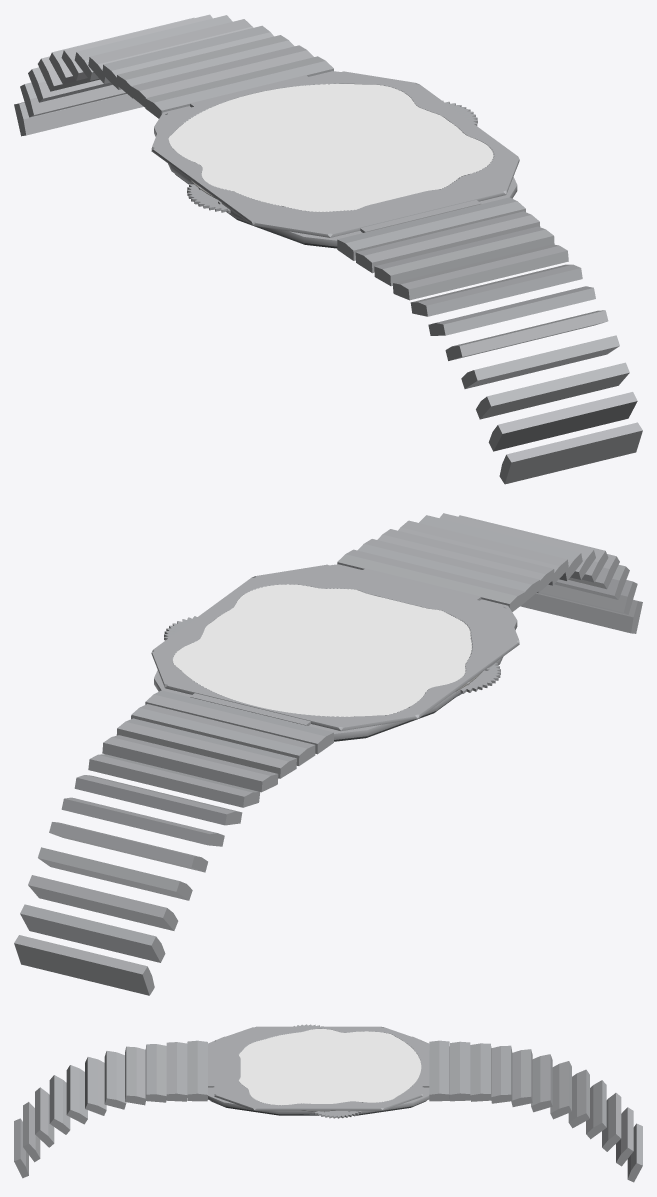
File: bulgari_ultra.glb
The picture shows the model from 3 angles, top to bottom: view 1: azimuth 30°, elevation 25°; view 2: azimuth 150°, elevation 25°; view 3: azimuth 270°, elevation 25°; orthographic projection. The views are drawn at different scales.
Visible parts, largest first — view 1: Sapphire_Crystal_UltraThin, Bezel_Octagonal_Titanium, Bracelet_Lower_Link_11, Bracelet_Lower_Link_3, Bracelet_Lower_Link_10, Bracelet_Lower_Link_4, Bracelet_Lower_Link_2, Bracelet_Lower_Link_1, Bracelet_Lower_Link_9, Bracelet_Upper_Link_1, Bracelet_Lower_Link_5, Bracelet_Upper_Link_2 (+14 smaller); view 2: Sapphire_Crystal_UltraThin, Bezel_Octagonal_Titanium, Bracelet_Upper_Link_12, Bracelet_Upper_Link_4, Bracelet_Upper_Link_11, Bracelet_Upper_Link_3, Bracelet_Upper_Link_5, Bracelet_Upper_Link_2, Bracelet_Upper_Link_1, Bracelet_Upper_Link_10, Bracelet_Lower_Link_1, Bracelet_Upper_Link_6 (+14 smaller); view 3: Sapphire_Crystal_UltraThin, Bezel_Octagonal_Titanium, Bracelet_Lower_Link_2, Bracelet_Lower_Link_1, Bracelet_Upper_Link_1, Bracelet_Upper_Link_3, Bracelet_Lower_Link_3, Bracelet_Upper_Link_2, Bracelet_Upper_Link_4, Bracelet_Lower_Link_4, Bracelet_Lower_Link_5, Bracelet_Upper_Link_5 (+18 smaller).
Boxes of the visible parts, x1=… form: Sapphire_Crystal_UltraThin: x1=168, y1=84, x2=493, y2=212; Bezel_Octagonal_Titanium: x1=151, y1=71, x2=519, y2=237; Bracelet_Lower_Link_11: x1=499, y1=422, x2=642, y2=484; Bracelet_Lower_Link_3: x1=374, y1=226, x2=554, y2=286; Bracelet_Lower_Link_10: x1=488, y1=392, x2=637, y2=451; Bracelet_Lower_Link_4: x1=393, y1=244, x2=568, y2=300; Bracelet_Lower_Link_2: x1=355, y1=211, x2=540, y2=273; Bracelet_Lower_Link_1: x1=337, y1=197, x2=525, y2=260; Bracelet_Lower_Link_9: x1=476, y1=362, x2=629, y2=419; Bracelet_Upper_Link_1: x1=145, y1=56, x2=333, y2=118; Bracelet_Lower_Link_5: x1=410, y1=264, x2=582, y2=316; Bracelet_Upper_Link_2: x1=131, y1=45, x2=313, y2=107; Sapphire_Crystal_UltraThin: x1=173, y1=584, x2=471, y2=716; Bezel_Octagonal_Titanium: x1=151, y1=564, x2=519, y2=730; Bracelet_Upper_Link_12: x1=14, y1=935, x2=154, y2=995; Bracelet_Upper_Link_4: x1=102, y1=735, x2=278, y2=792; Bracelet_Upper_Link_11: x1=20, y1=904, x2=165, y2=962; Bracelet_Upper_Link_3: x1=116, y1=718, x2=296, y2=778; Bracelet_Upper_Link_5: x1=88, y1=754, x2=260, y2=807; Bracelet_Upper_Link_2: x1=131, y1=704, x2=315, y2=765; Bracelet_Upper_Link_1: x1=145, y1=690, x2=333, y2=754; Bracelet_Upper_Link_10: x1=28, y1=875, x2=178, y2=930; Bracelet_Lower_Link_1: x1=337, y1=549, x2=525, y2=611; Bracelet_Upper_Link_6: x1=74, y1=775, x2=242, y2=825; Sapphire_Crystal_UltraThin: x1=239, y1=1029, x2=421, y2=1105; Bezel_Octagonal_Titanium: x1=214, y1=1026, x2=422, y2=1110; Bracelet_Lower_Link_2: x1=166, y1=1042, x2=187, y2=1101; Bracelet_Lower_Link_1: x1=187, y1=1040, x2=207, y2=1101; Bracelet_Upper_Link_1: x1=429, y1=1040, x2=449, y2=1101; Bracelet_Upper_Link_3: x1=470, y1=1043, x2=491, y2=1101; Bracelet_Lower_Link_3: x1=145, y1=1044, x2=166, y2=1102; Bracelet_Upper_Link_2: x1=450, y1=1041, x2=470, y2=1101; Bracelet_Upper_Link_4: x1=491, y1=1045, x2=512, y2=1103; Bracelet_Lower_Link_4: x1=125, y1=1046, x2=145, y2=1105; Bracelet_Lower_Link_5: x1=104, y1=1051, x2=126, y2=1109; Bracelet_Upper_Link_5: x1=511, y1=1049, x2=532, y2=1106.
Bounding box in the file's own units: 41.19 × 19.85 × 118.
7 materials, 2 textured.
